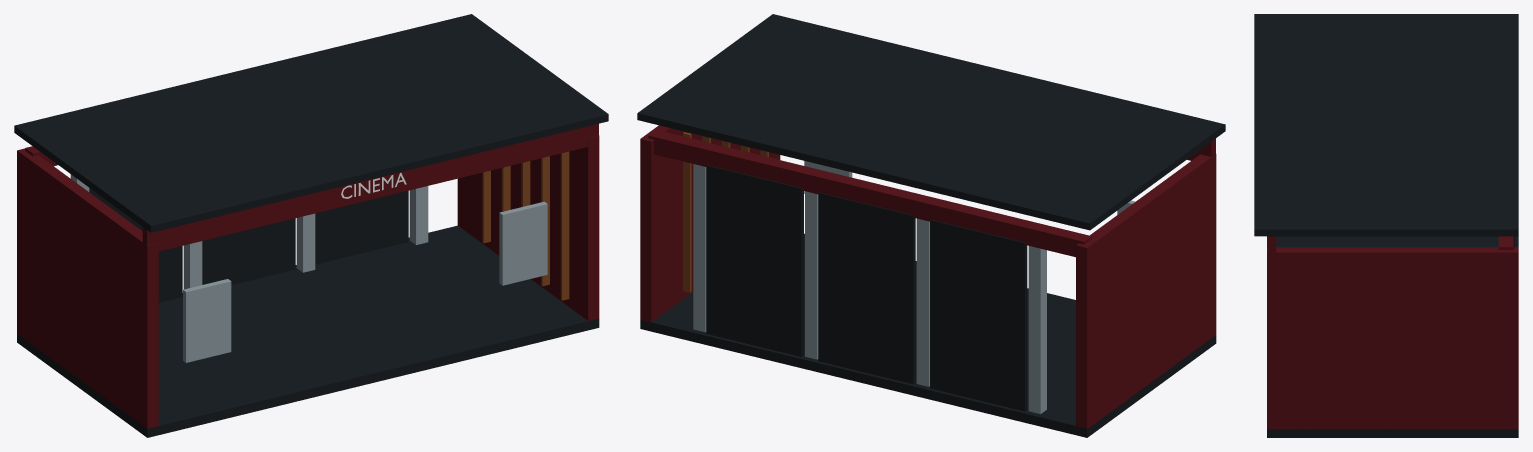
The picture shows the model from 3 angles, left to right: view 1: azimuth 30°, elevation 25°; view 2: azimuth 150°, elevation 25°; view 3: azimuth 270°, elevation 25°; orthographic projection. The views are drawn at different scales.
Parts seen in each view (by area): view 1: CANOPY, FLOOR, SIDE_Wall, SIDE_Wall.001, SIGN_Header, DOOR_Recess.002, DOOR_Recess.001, POSTER_BlankFrame.001, POSTER_BlankFrame, DOOR_Recess, ACOUSTIC_Fin.006, ENTRY_Pier.002 (+4 smaller); view 2: CANOPY, SIDE_Wall, DOOR_Recess.002, DOOR_Recess, DOOR_Recess.001, FLOOR, ENTRY_Header, SIDE_Wall.001, ENTRY_Pier, ENTRY_Pier.002, ENTRY_Pier.003, ENTRY_Pier.001 (+1 smaller); view 3: CANOPY, SIDE_Wall.001, FLOOR.
Boxes of the visible parts, x1,y1,x2,y2 form: CANOPY: [14, 14, 608, 232]; FLOOR: [17, 225, 599, 437]; SIDE_Wall: [17, 148, 158, 428]; SIDE_Wall.001: [457, 135, 599, 320]; SIGN_Header: [142, 123, 598, 252]; DOOR_Recess.002: [315, 190, 408, 264]; DOOR_Recess.001: [202, 218, 295, 284]; POSTER_BlankFrame.001: [499, 201, 547, 285]; POSTER_BlankFrame: [183, 279, 231, 362]; DOOR_Recess: [89, 188, 182, 302]; ACOUSTIC_Fin.006: [560, 151, 569, 300]; ENTRY_Pier.002: [296, 213, 315, 272]; CANOPY: [637, 14, 1225, 230]; SIDE_Wall: [1076, 154, 1216, 428]; DOOR_Recess.002: [706, 165, 803, 356]; DOOR_Recess: [930, 219, 1027, 411]; DOOR_Recess.001: [818, 192, 915, 383]; FLOOR: [640, 233, 1216, 437]; ENTRY_Header: [648, 130, 1091, 257]; SIDE_Wall.001: [640, 125, 780, 322]; ENTRY_Pier: [1028, 246, 1046, 413]; ENTRY_Pier.002: [805, 191, 818, 359]; ENTRY_Pier.003: [693, 164, 706, 332]; ENTRY_Pier.001: [916, 218, 929, 386]; CANOPY: [1254, 14, 1518, 236]; SIDE_Wall.001: [1267, 247, 1518, 429]; FLOOR: [1267, 236, 1518, 437].
Size of the model in its own units: 8.1 by 3.68 by 4.2.
